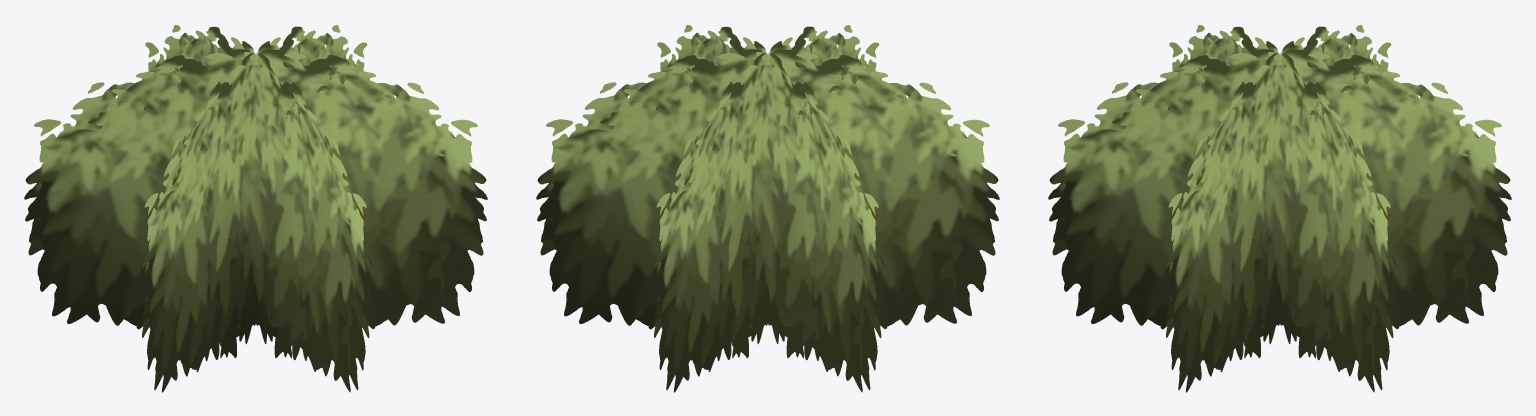
File: painted-bush-033.glb
3 views of the same model, side by side, from view 1: azimuth 30°, elevation 25°; view 2: azimuth 150°, elevation 25°; view 3: azimuth 270°, elevation 25° (orthographic).
Size of the model in its own units: 8.75 by 7.21 by 10.1.
Materials: 1 (1 with a texture image).
